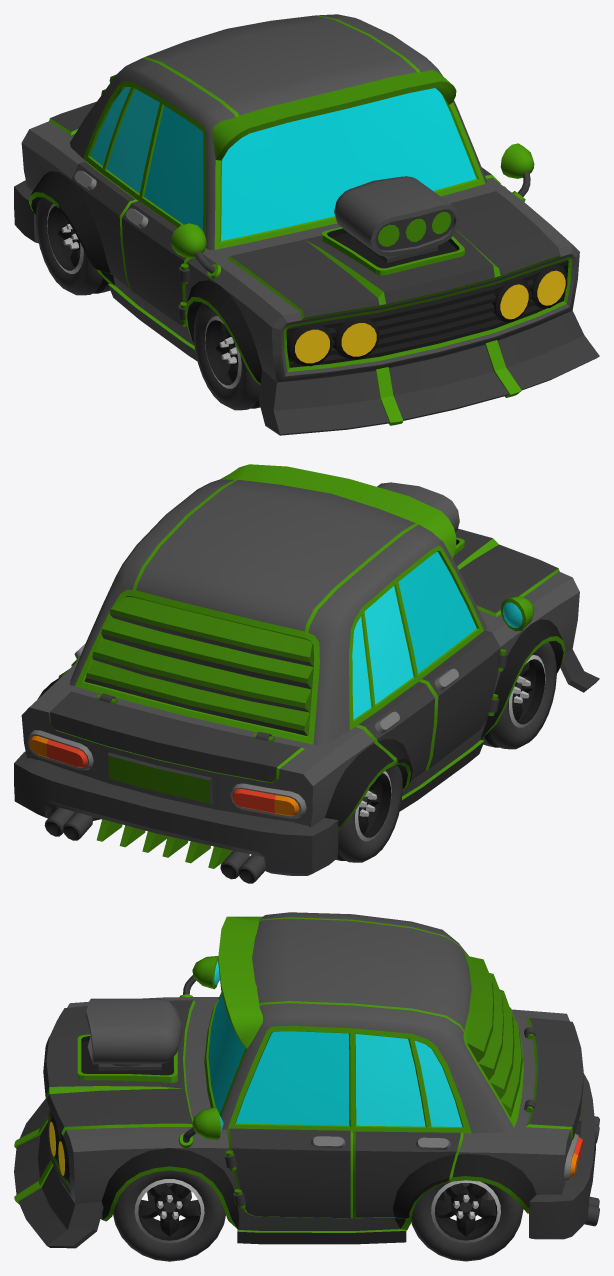
Rendered from VEH2-B.fbx.
3 renders of one model, top to bottom at view 1: azimuth 30°, elevation 25°; view 2: azimuth 150°, elevation 25°; view 3: azimuth 270°, elevation 25°, orthographic. The views are drawn at different scales.
Parts seen in each view (by area): view 1: VEH2_B, V2B_Wheel_FR, V2B_Wheel_BR; view 2: VEH2_B, V2B_Wheel_FR, V2B_Wheel_BR; view 3: VEH2_B, V2B_Wheel_FL, V2B_Wheel_BL.
Boxes of the visible parts, left/top/right/bottom form: VEH2_B: left=14, top=14, right=599, bottom=435; V2B_Wheel_FR: left=193, top=303, right=260, bottom=410; V2B_Wheel_BR: left=36, top=197, right=110, bottom=295; VEH2_B: left=14, top=464, right=599, bottom=883; V2B_Wheel_FR: left=481, top=642, right=556, bottom=749; V2B_Wheel_BR: left=336, top=765, right=402, bottom=862; VEH2_B: left=14, top=912, right=599, bottom=1248; V2B_Wheel_FL: left=113, top=1170, right=225, bottom=1261; V2B_Wheel_BL: left=411, top=1180, right=523, bottom=1261.
Size of the model in its own units: 282 by 190 by 422.
Materials: 1 (1 with a texture image).
